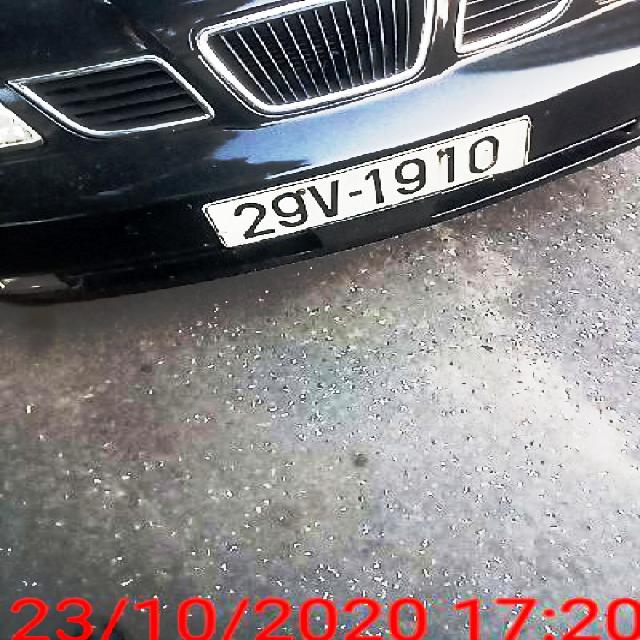license_plate: (209, 118, 531, 250)
